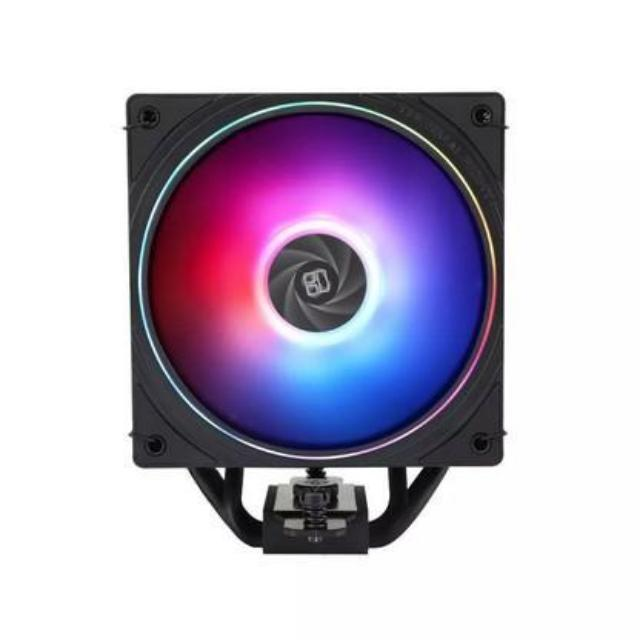CPU_Fan: (127, 91, 504, 554)
